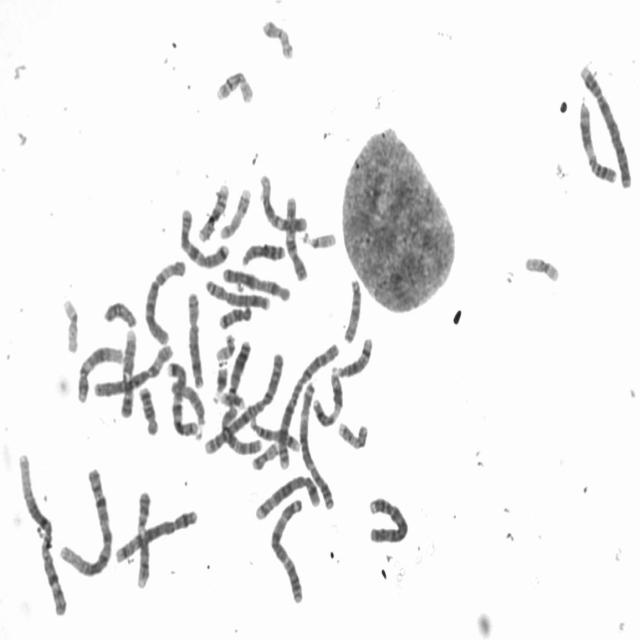A1: (14, 446, 70, 618), (55, 460, 114, 580)
A2: (272, 336, 342, 472), (200, 346, 285, 456)
A3: (296, 375, 336, 510), (266, 491, 306, 605)
B4: (576, 57, 634, 190), (365, 490, 410, 545)
B5: (111, 503, 199, 565), (251, 469, 322, 522)
C10: (281, 190, 309, 282), (218, 400, 264, 456)
C11: (575, 95, 619, 185), (308, 362, 346, 428)
C12: (256, 166, 309, 235), (72, 339, 124, 404)
C6: (88, 336, 175, 399), (140, 253, 188, 346)
C7: (176, 202, 231, 270), (164, 356, 202, 440)
C8: (202, 272, 272, 312), (183, 286, 205, 390)
C9: (116, 322, 139, 420), (132, 485, 152, 590)
D13: (220, 334, 252, 408), (238, 235, 286, 268)
D14: (247, 412, 302, 453), (330, 330, 375, 380)
D15: (166, 375, 206, 428), (339, 272, 363, 345)
E16: (194, 177, 231, 244), (212, 64, 255, 104)
E17: (216, 182, 253, 241), (334, 415, 370, 451)
E18: (134, 381, 160, 437), (214, 299, 254, 331)
F19: (520, 248, 562, 283), (58, 292, 80, 355)
F20: (258, 12, 296, 61), (249, 436, 280, 472)
G21: (210, 359, 230, 401), (217, 386, 247, 409)
G22: (298, 224, 338, 250), (212, 328, 237, 366)
X: (219, 262, 292, 303)
